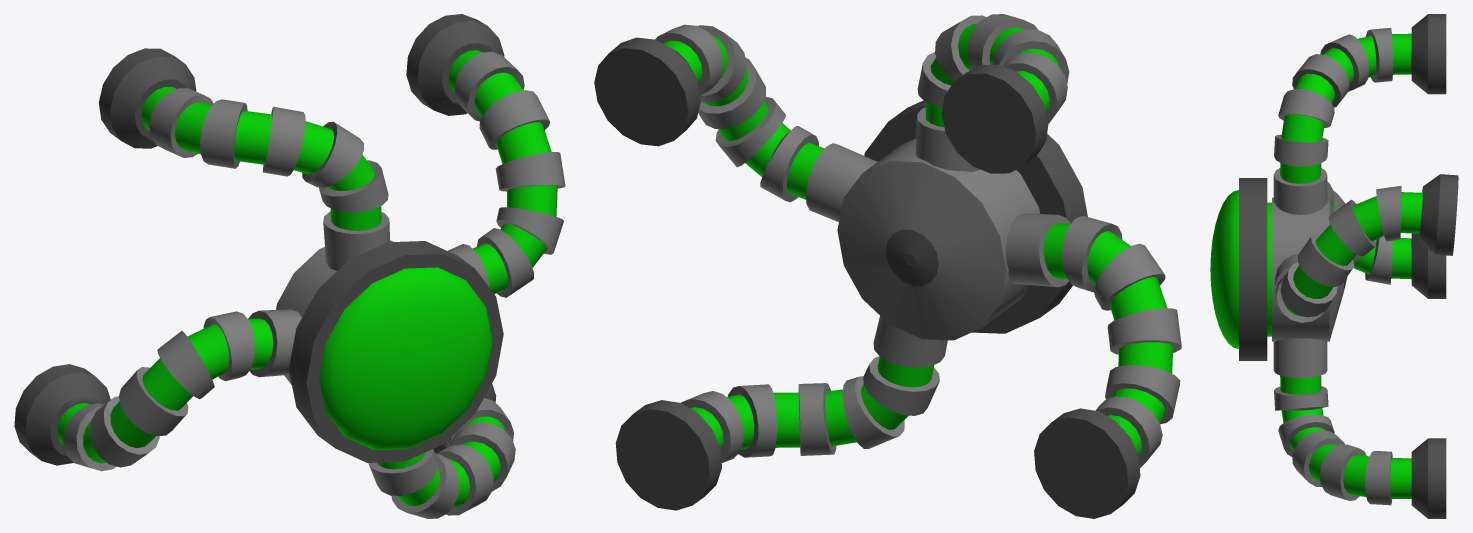
Rendered from Robot_Light_D.fbx.
3 views of the same model, side by side, from view 1: azimuth 30°, elevation 25°; view 2: azimuth 150°, elevation 25°; view 3: azimuth 270°, elevation 25° (orthographic). The views are drawn at different scales.
Parts seen in each view (by area): view 1: pSphere28, pCylinder56, pCylinder58, pCylinder55, pCylinder57; view 2: pSphere28, pCylinder58, pCylinder57, pCylinder55, pCylinder56; view 3: pCylinder56, pCylinder57, pSphere28, pCylinder55, pCylinder58.
Boxes of the visible parts, box(x1,y1,x2,y2) form: pSphere28: box(276, 240, 503, 462); pCylinder56: box(98, 48, 389, 270); pCylinder58: box(14, 309, 301, 471); pCylinder55: box(406, 14, 565, 297); pCylinder57: box(368, 383, 515, 518); pSphere28: box(837, 100, 1087, 340); pCylinder58: box(1005, 213, 1181, 518); pCylinder57: box(615, 316, 947, 510); pCylinder55: box(594, 24, 877, 221); pCylinder56: box(915, 14, 1069, 173); pCylinder56: box(1273, 14, 1446, 214); pCylinder57: box(1273, 338, 1446, 518); pSphere28: box(1210, 178, 1347, 360); pCylinder55: box(1274, 174, 1458, 322); pCylinder58: box(1327, 181, 1446, 298).
Size of the model in its own units: 1.52 by 0.8403 by 1.42.
